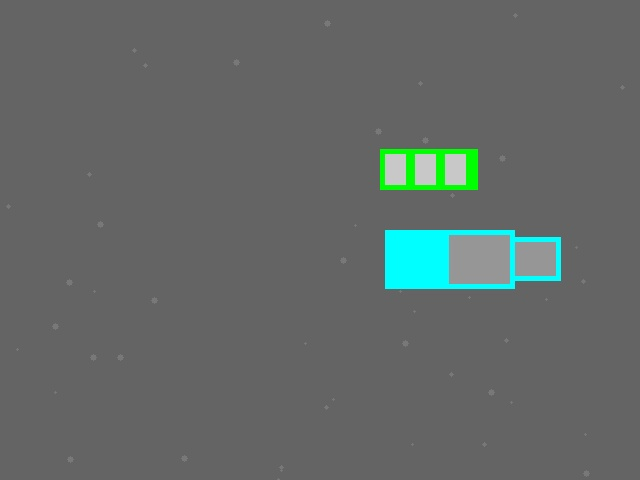bus: (380, 149, 477, 189)
truck: (385, 230, 514, 288), (464, 237, 560, 280)
